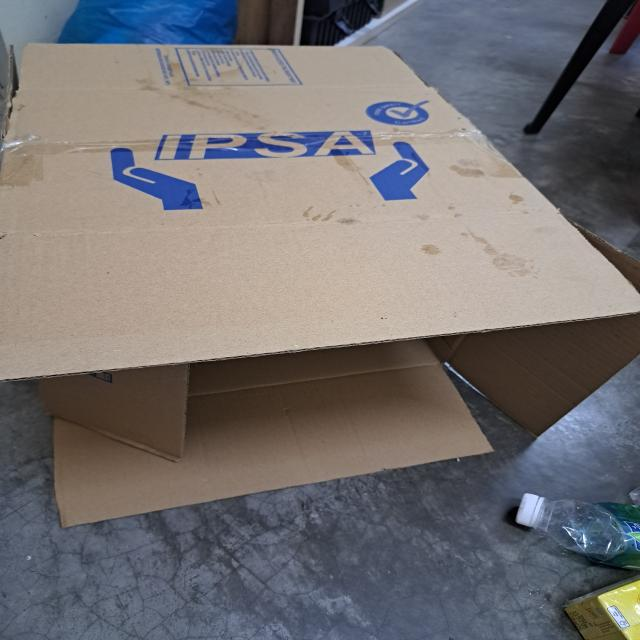cardboard: (0, 46, 640, 528)
drink carton: (563, 577, 640, 640)
plastic bottle: (544, 496, 640, 572)
plastic bottle cap: (515, 493, 543, 527)
